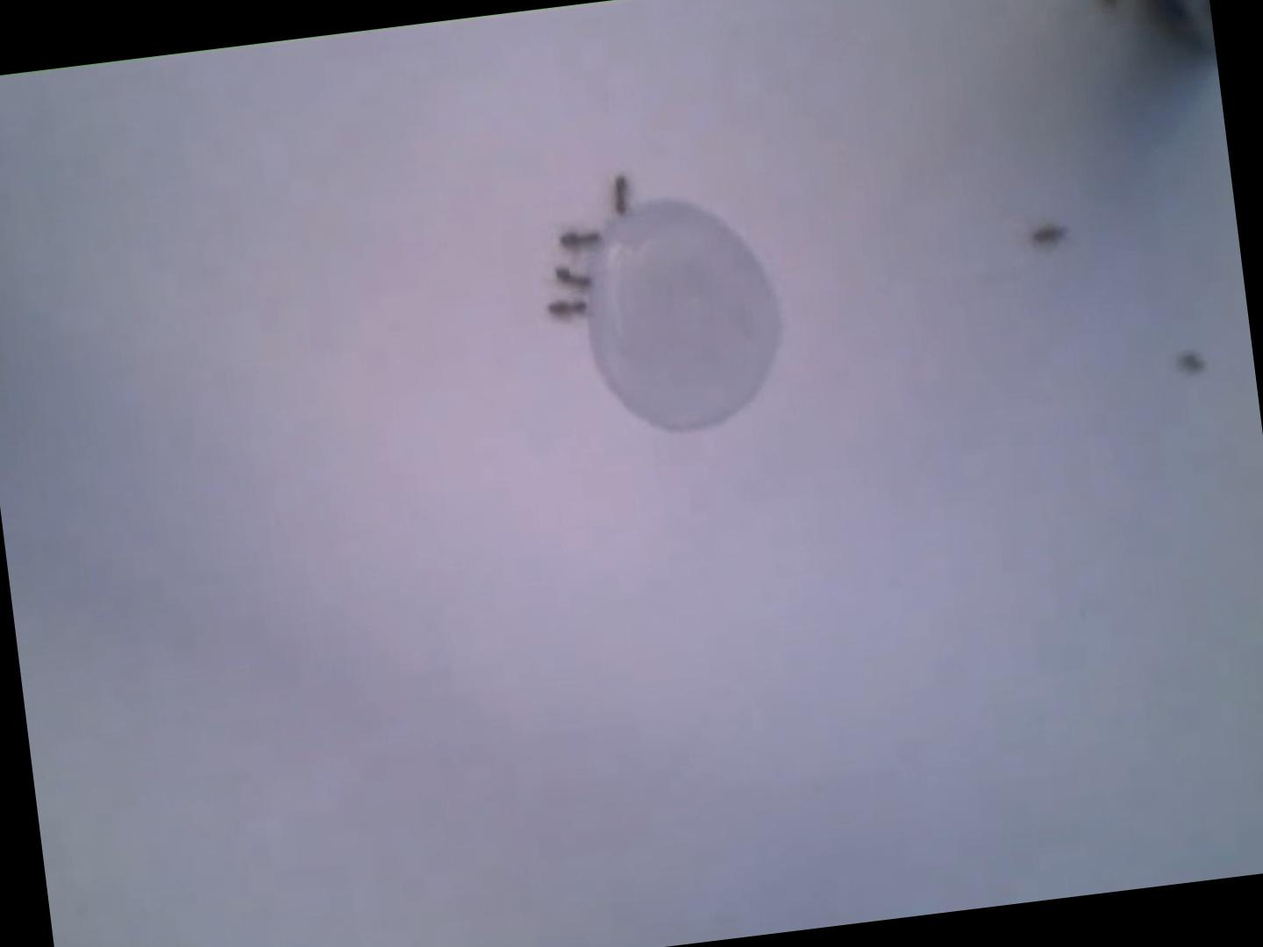Ant: (555, 226, 599, 255), (551, 266, 587, 296), (543, 295, 584, 321), (1027, 224, 1063, 249), (608, 173, 628, 215), (1176, 352, 1202, 374), (1091, 0, 1117, 10)
